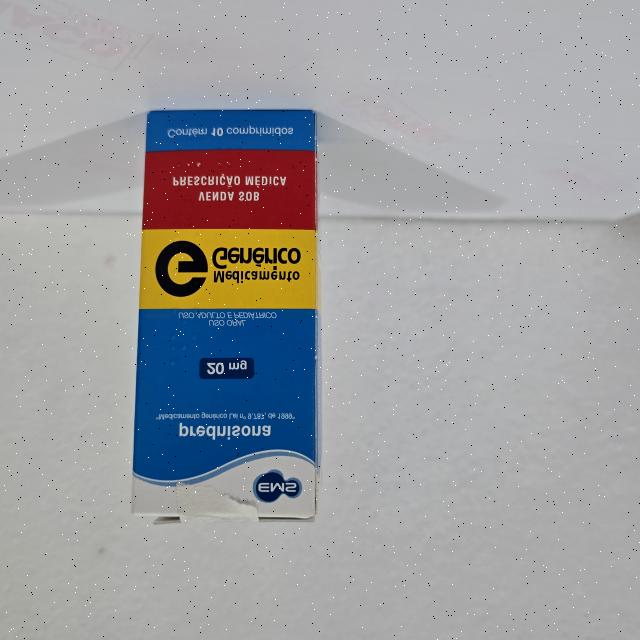prednisona: (127, 104, 326, 529)
